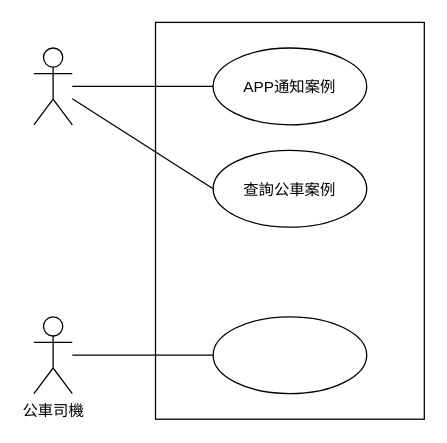
Some shapes in this 447 by 443 pixel diagram are drawn without their labels. Each missing label, with the centre of its shape:
乘客: point 52,86
交通路況案例: point 289,355
